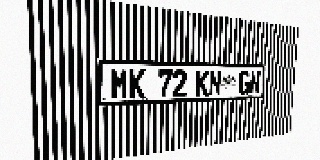2: (172, 70, 187, 97)
7: (157, 69, 172, 98)
G: (239, 71, 250, 95)
K: (129, 69, 145, 99), (196, 70, 209, 96)
M: (111, 68, 128, 100)
N: (209, 70, 221, 96), (249, 71, 260, 94)
